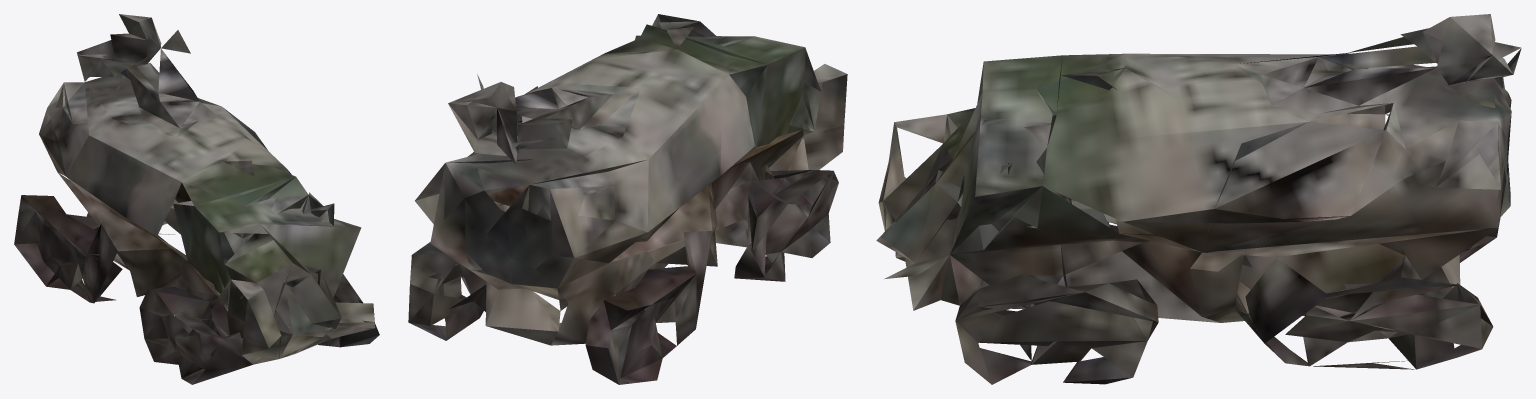
Rendered from extractor_1919765259_lod0m.glb.
3 views of the same model, side by side, from view 1: azimuth 30°, elevation 25°; view 2: azimuth 150°, elevation 25°; view 3: azimuth 270°, elevation 25° (orthographic). The views are drawn at different scales.
Size of the model in its own units: 5.4 by 6.38 by 11.54.
Materials: 1 (1 with a texture image).
